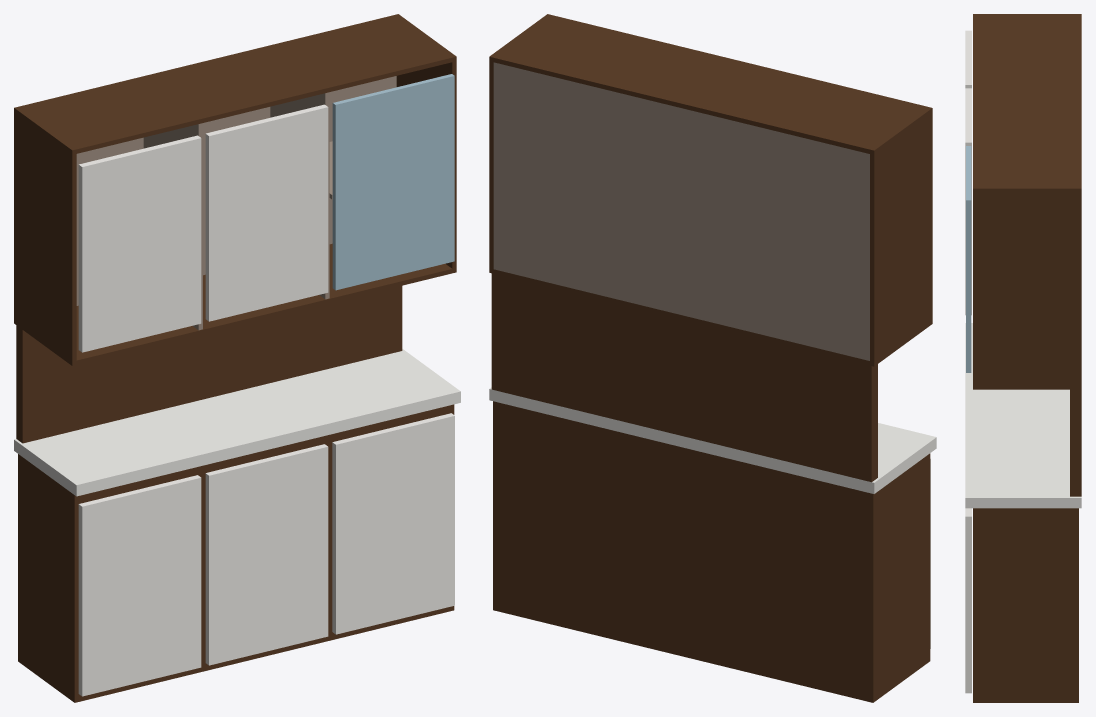
File: sideboard.glb
3 views of the same model, side by side, from view 1: azimuth 30°, elevation 25°; view 2: azimuth 150°, elevation 25°; view 3: azimuth 270°, elevation 25° (orthographic). The views are drawn at different scales.
Parts seen in each view (by area): view 1: material-2-door, material-0-body, material-1-top, material-3-glass, material-4-interior; view 2: material-0-body, material-4-interior, material-1-top; view 3: material-0-body, material-1-top, material-2-door, material-3-glass.
Boxes of the visible parts, <box> form: material-2-door: <box>78,104,454,696</box>; material-0-body: <box>14,14,456,702</box>; material-1-top: <box>14,349,460,496</box>; material-3-glass: <box>332,74,454,290</box>; material-4-interior: <box>76,76,396,330</box>; material-0-body: <box>489,14,932,702</box>; material-4-interior: <box>493,62,869,360</box>; material-1-top: <box>489,387,936,493</box>; material-0-body: <box>973,14,1081,702</box>; material-1-top: <box>965,323,1081,508</box>; material-2-door: <box>965,30,971,693</box>; material-3-glass: <box>966,146,971,372</box>.
Size of the model in its own units: 1.6 by 2.2 by 0.45.
